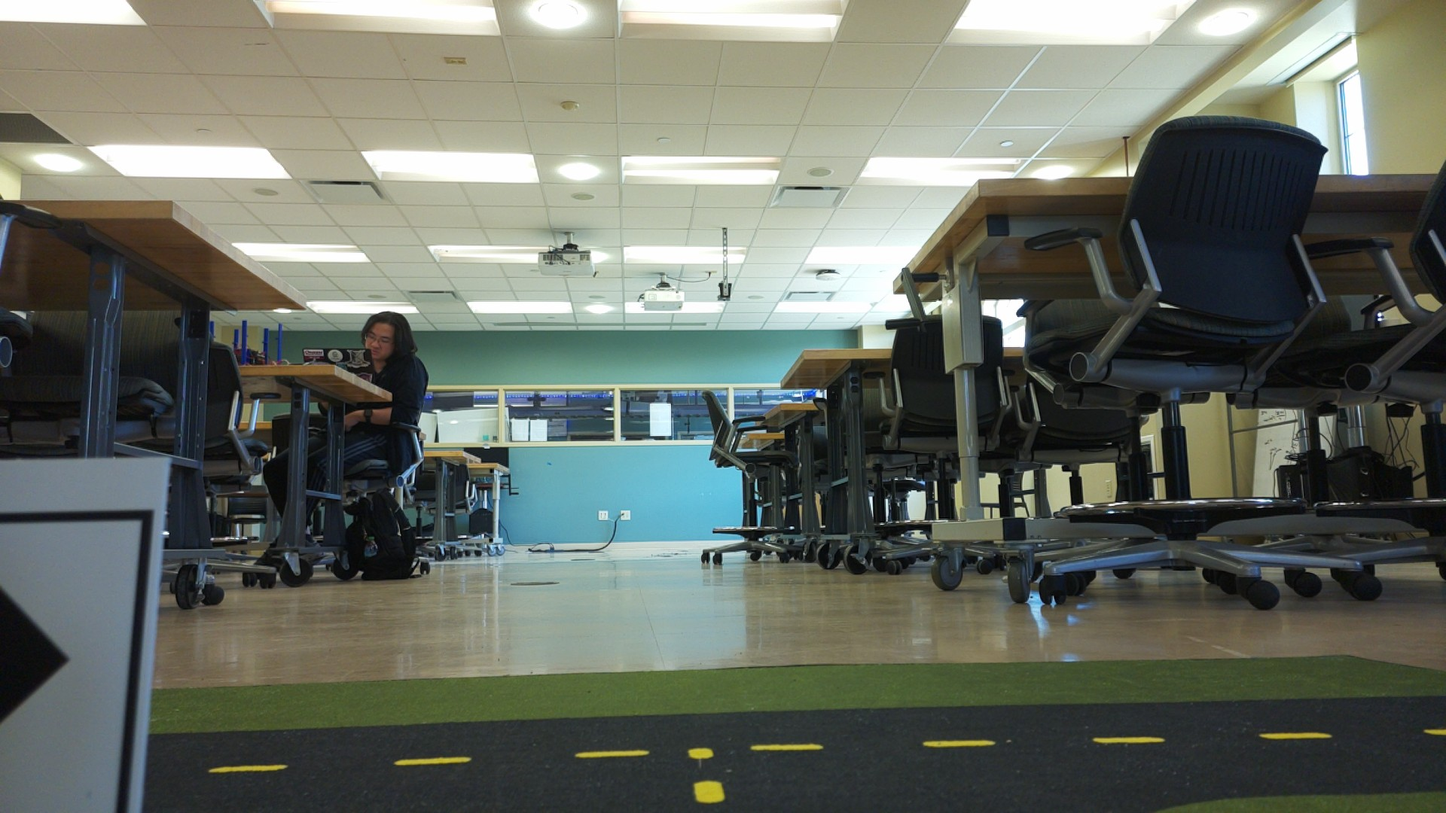yellowline: (215, 716, 1446, 774)
